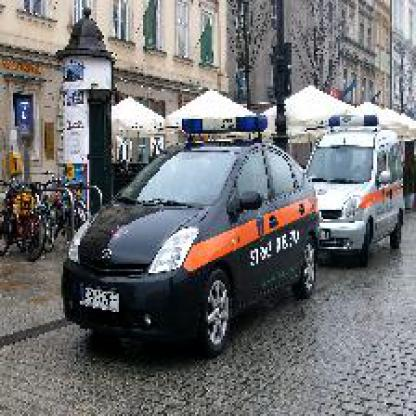emergency: (39, 110, 414, 399)
